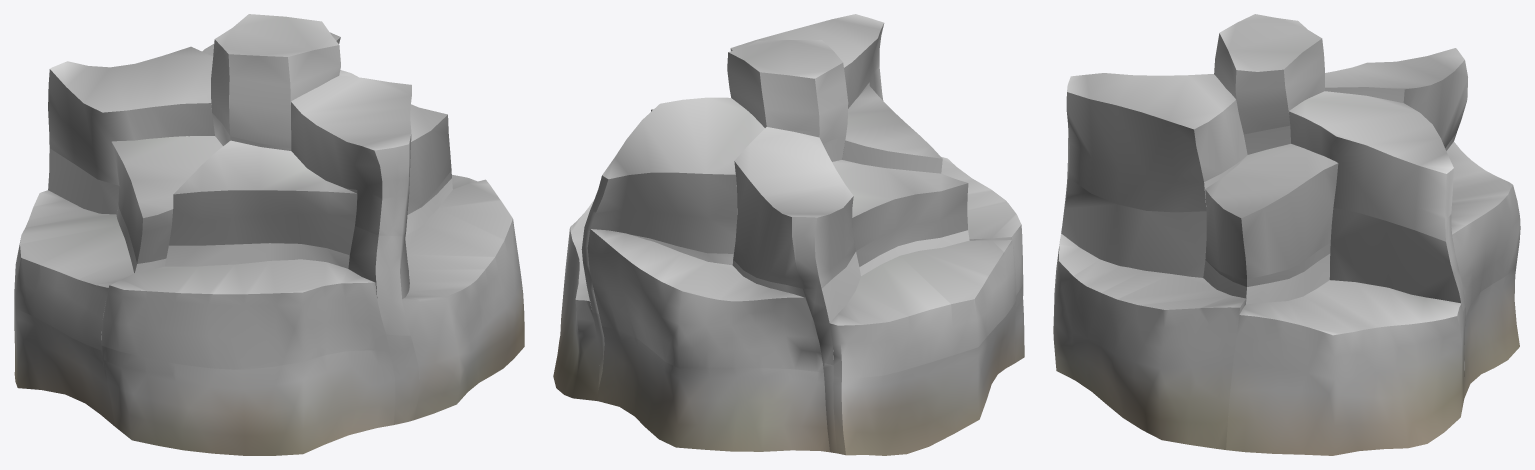
The model's file is iron_rock_v8.glb.
The picture shows the model from 3 angles, left to right: view 1: azimuth 30°, elevation 25°; view 2: azimuth 150°, elevation 25°; view 3: azimuth 270°, elevation 25°; orthographic projection. The views are drawn at different scales.
Visible parts, largest first — view 1: Chunk_28, Chunk_27, Chunk_29, Chunk_18, Chunk_12, Chunk_21, Chunk_26, Chunk_03, Chunk_15, Chunk_25, Chunk_20, Chunk_06 (+6 smaller); view 2: Chunk_24, Chunk_09, Chunk_26, Chunk_23, Chunk_12, Chunk_25, Chunk_03, Chunk_15, Chunk_22, Chunk_18, Chunk_21, Chunk_28 (+5 smaller); view 3: Chunk_22, Chunk_29, Chunk_21, Chunk_09, Chunk_06, Chunk_03, Chunk_20, Chunk_08, Chunk_24, Chunk_12, Chunk_23, Chunk_05 (+1 smaller).
Boxes of the visible parts, bbox=[...] form: Chunk_28: bbox=[101, 259, 389, 369]; Chunk_27: bbox=[101, 345, 395, 455]; Chunk_29: bbox=[402, 179, 524, 419]; Chunk_18: bbox=[169, 140, 357, 255]; Chunk_12: bbox=[48, 46, 214, 185]; Chunk_21: bbox=[291, 75, 411, 236]; Chunk_26: bbox=[14, 190, 134, 350]; Chunk_03: bbox=[211, 14, 340, 148]; Chunk_15: bbox=[111, 136, 222, 263]; Chunk_25: bbox=[14, 299, 113, 425]; Chunk_20: bbox=[348, 226, 410, 335]; Chunk_06: bbox=[339, 70, 451, 213]; Chunk_24: bbox=[587, 229, 823, 372]; Chunk_09: bbox=[584, 97, 764, 253]; Chunk_26: bbox=[829, 240, 1015, 378]; Chunk_23: bbox=[596, 326, 829, 452]; Chunk_12: bbox=[733, 127, 855, 288]; Chunk_25: bbox=[833, 301, 1015, 455]; Chunk_03: bbox=[727, 40, 848, 144]; Chunk_15: bbox=[832, 160, 968, 266]; Chunk_22: bbox=[553, 199, 599, 400]; Chunk_18: bbox=[842, 86, 942, 173]; Chunk_21: bbox=[730, 14, 884, 108]; Chunk_28: bbox=[941, 157, 1023, 295]; Chunk_22: bbox=[1226, 280, 1464, 455]; Chunk_29: bbox=[1053, 233, 1246, 449]; Chunk_21: bbox=[1066, 73, 1247, 212]; Chunk_09: bbox=[1288, 91, 1453, 241]; Chunk_06: bbox=[1205, 144, 1338, 279]; Chunk_03: bbox=[1214, 14, 1324, 134]; Chunk_20: bbox=[1061, 163, 1206, 277]; Chunk_08: bbox=[1329, 208, 1465, 310]; Chunk_24: bbox=[1446, 141, 1520, 316]; Chunk_12: bbox=[1325, 48, 1467, 147]; Chunk_23: bbox=[1464, 265, 1519, 399]; Chunk_05: bbox=[1203, 243, 1330, 304].
Bounding box in the file's own units: 2.56 × 1.87 × 2.41.
